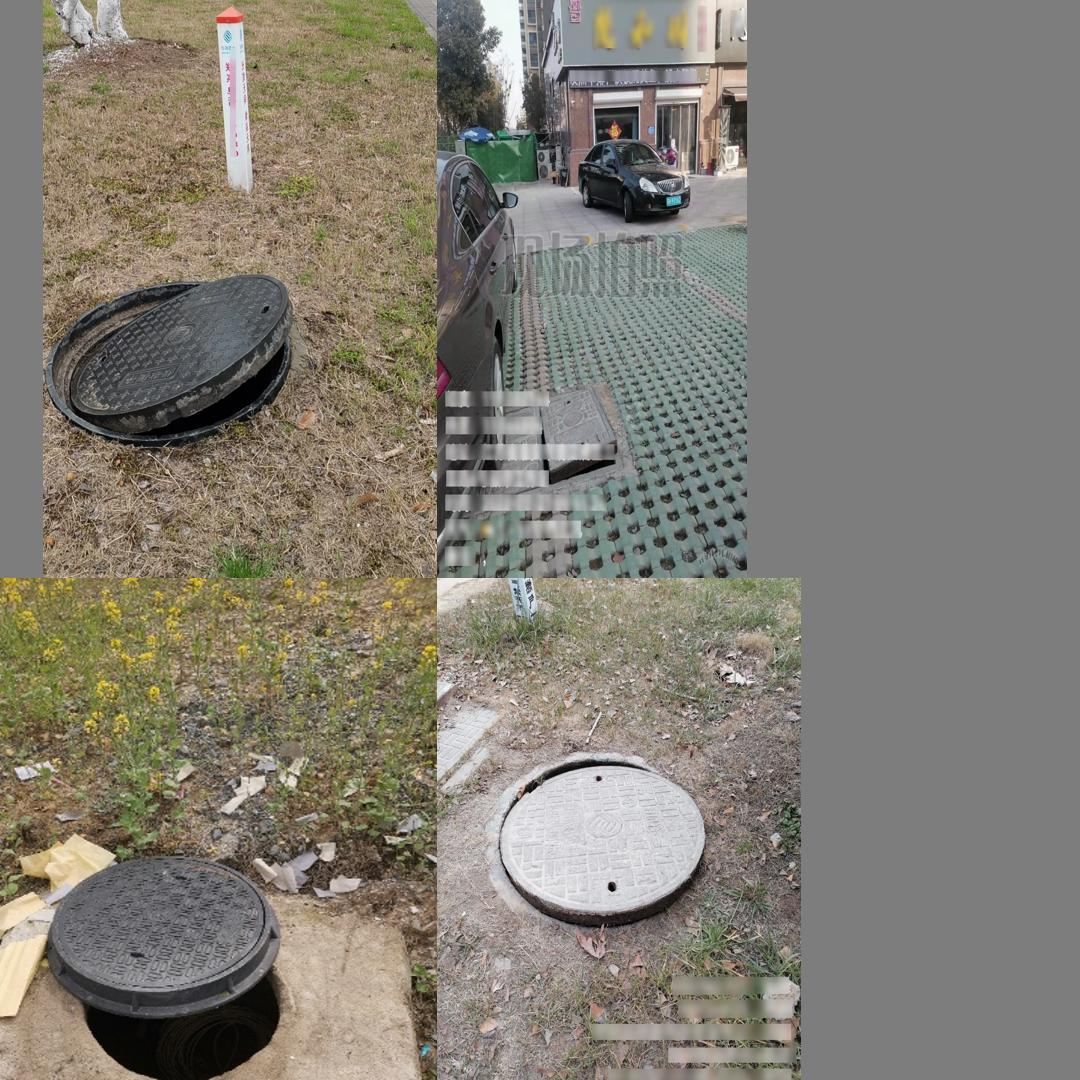uncovered: (48, 854, 286, 1080), (43, 272, 295, 447), (485, 750, 704, 926), (504, 386, 623, 502)
